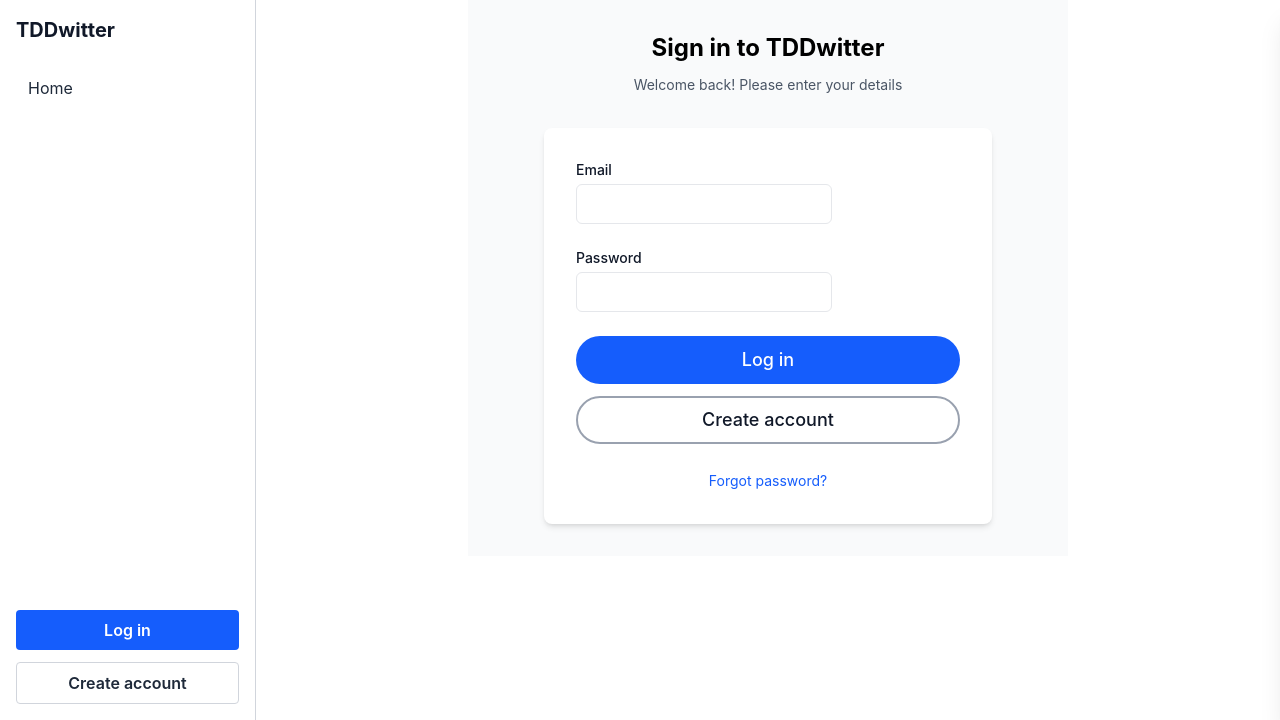
Test: Login page › AC-LOGIN-20: shows the wrong-credentials alert and stays on the page when the API returns 401
This screenshot has width=1280, height=720.
In the field labelled "Email": (704, 204) [576,184,832,224], type "user@example.com"
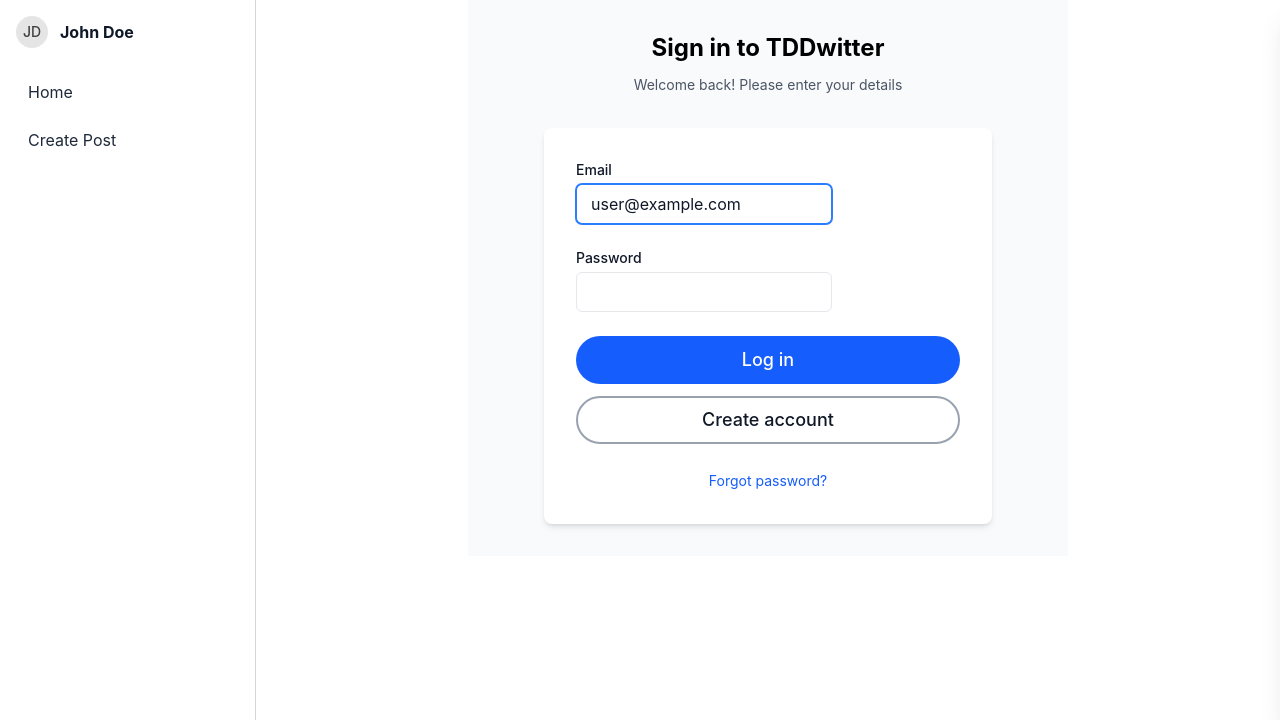
In the password field labelled "Password": (704, 292) [576,272,832,312], type "correct-horse-battery"
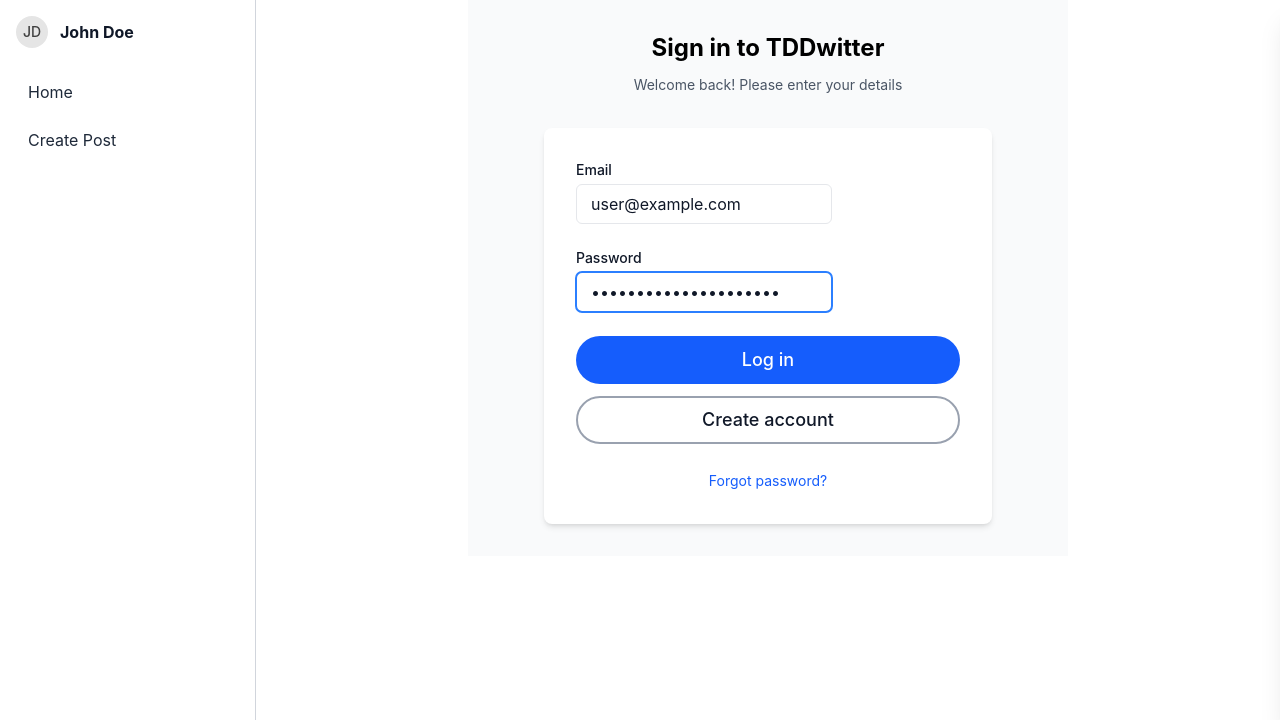
Click the button "Log in": (768, 360) [576,336,960,384]
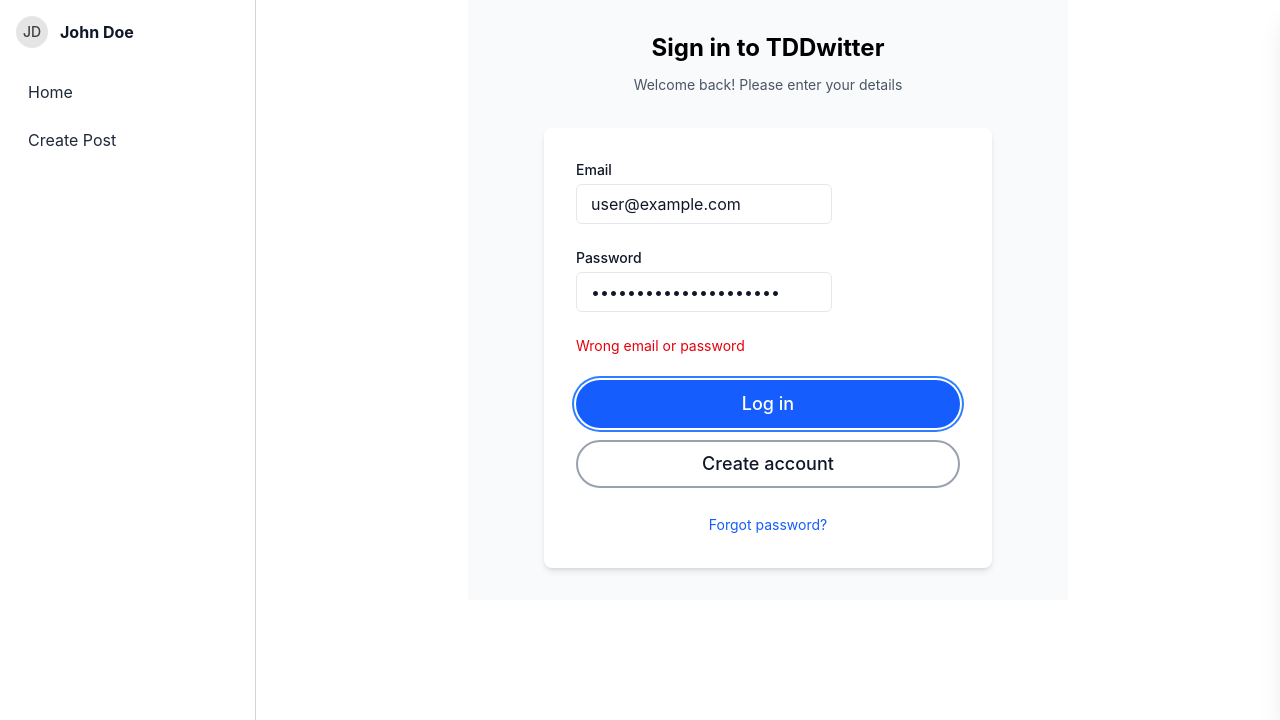
Expected: the button "Log in" is enabled, [576,380,960,428]
Expected: the message reads "Wrong email or password", [576,337,745,354]
